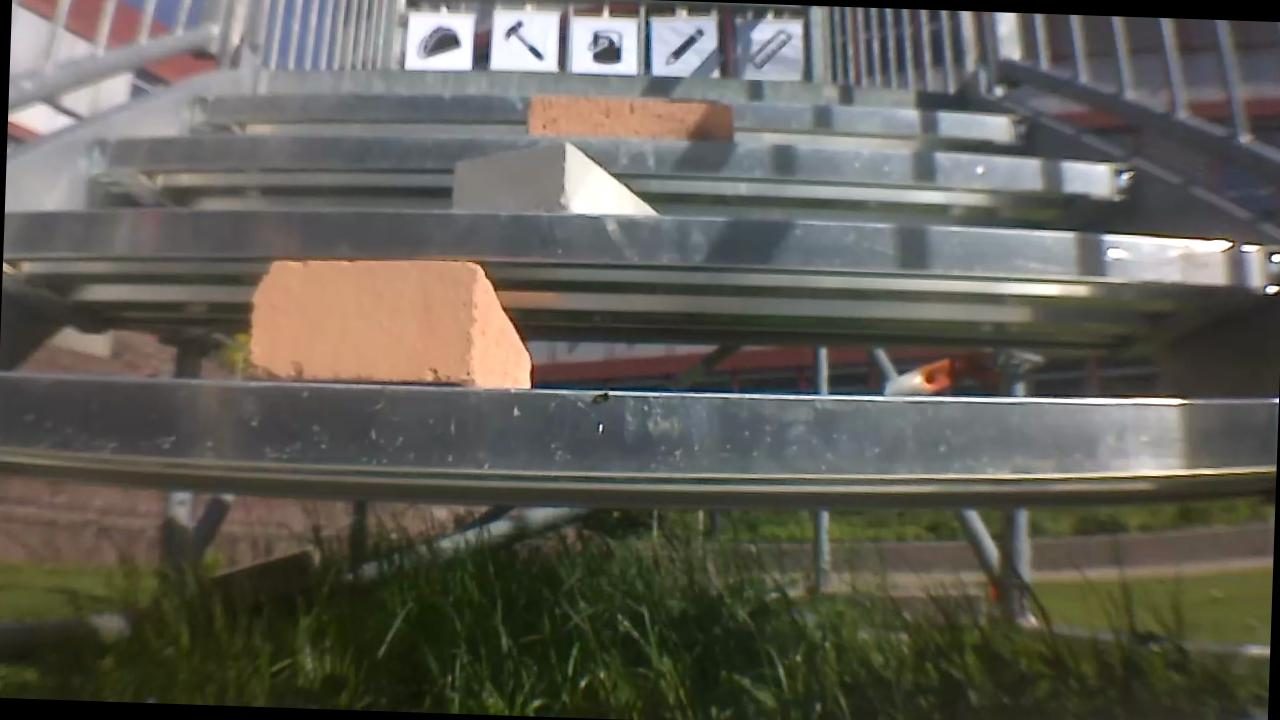brick: (229, 246, 571, 396), (435, 139, 677, 219), (518, 90, 737, 142)
bucket: (584, 25, 621, 67)
edge: (3, 356, 1278, 506), (2, 202, 1280, 321), (67, 124, 1137, 222), (175, 86, 1034, 153), (254, 56, 973, 113)
hammer: (502, 16, 548, 59)
pencil: (657, 28, 703, 64)
ruler: (746, 26, 793, 69)
steps: (1, 43, 1280, 720)
taco: (405, 19, 467, 65)
